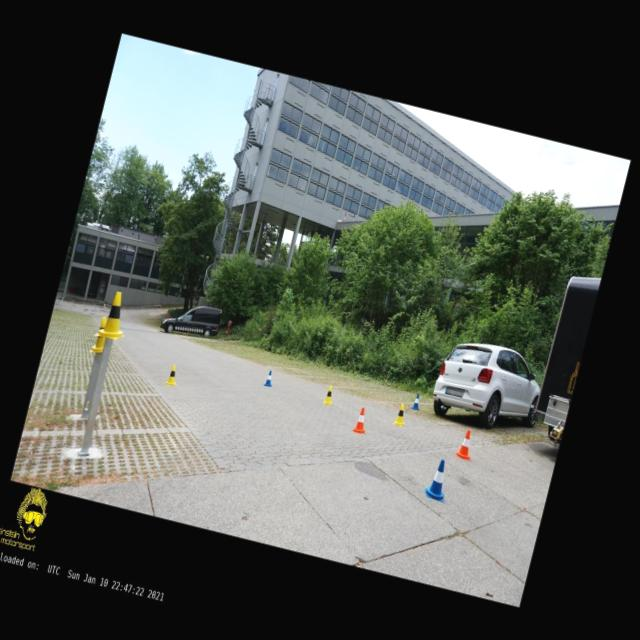blue_cone: (422, 457, 454, 502), (262, 369, 276, 387), (410, 392, 422, 411)
orange_cone: (453, 427, 478, 461), (352, 405, 372, 435)
yellow_cone: (94, 288, 134, 342), (89, 314, 110, 354), (391, 401, 409, 427), (164, 363, 181, 387), (321, 384, 336, 406)
